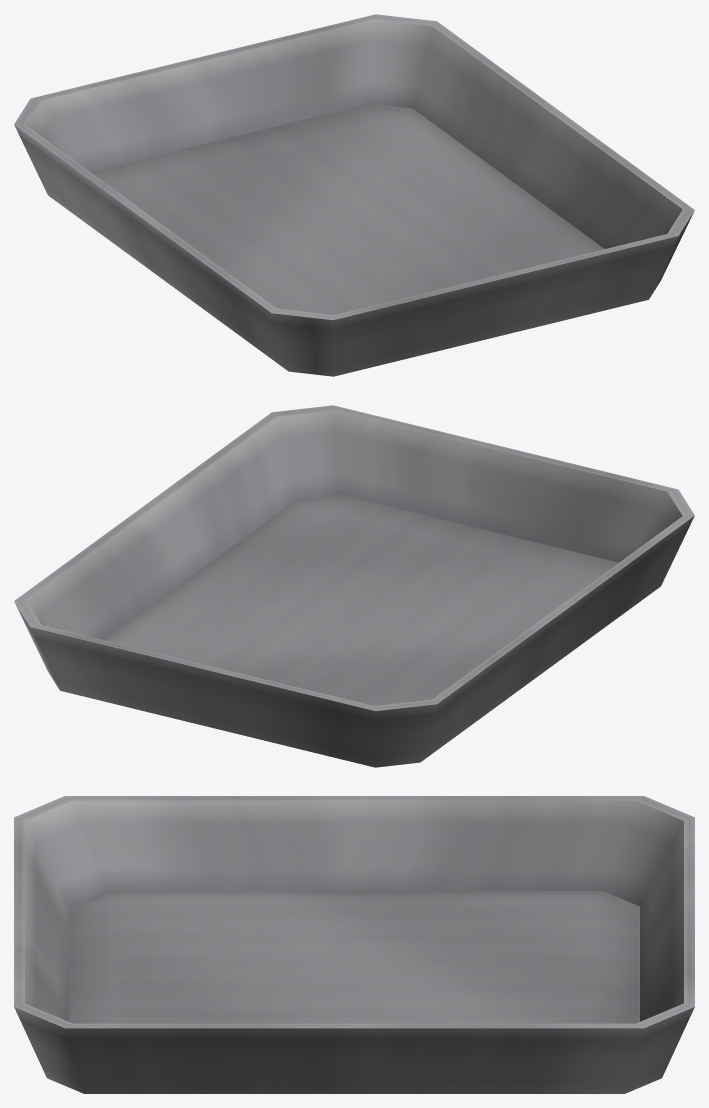
File: KR_Steel_tray_01_01.fbx
3 views of the same model, one above another, from view 1: azimuth 30°, elevation 25°; view 2: azimuth 150°, elevation 25°; view 3: azimuth 270°, elevation 25° (orthographic). The views are drawn at different scales.
Visible parts, largest first — view 1: kr_steel_tray_01_01; view 2: kr_steel_tray_01_01; view 3: kr_steel_tray_01_01.
Boxes of the visible parts, x1,y1,x2,y2 form: kr_steel_tray_01_01: (14,14,694,376); kr_steel_tray_01_01: (14,405,694,767); kr_steel_tray_01_01: (14,796,694,1093).
Bounding box in the file's own units: 12.5 × 2 × 15.5.
